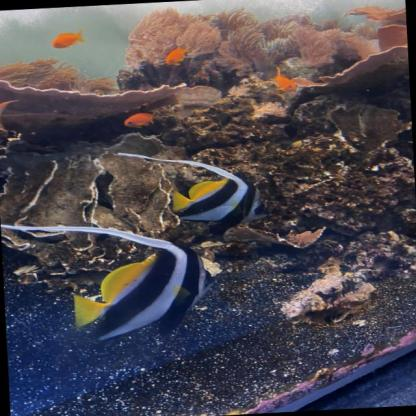fish: (38, 217, 214, 343), (163, 151, 274, 233), (120, 110, 156, 131), (46, 32, 85, 49), (272, 71, 299, 93), (159, 48, 186, 68)
